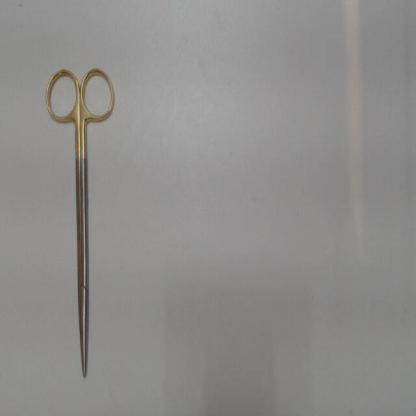7 Metzenbaum Scissors: (45, 64, 117, 378)
